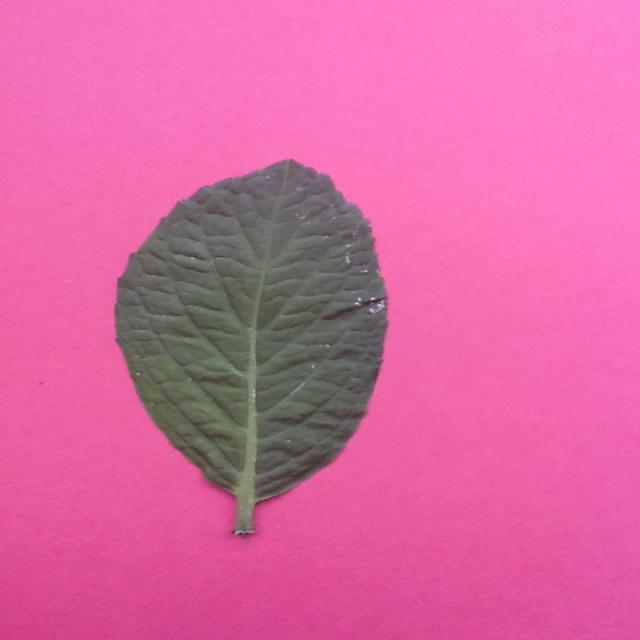foliage: (114, 158, 394, 540)
